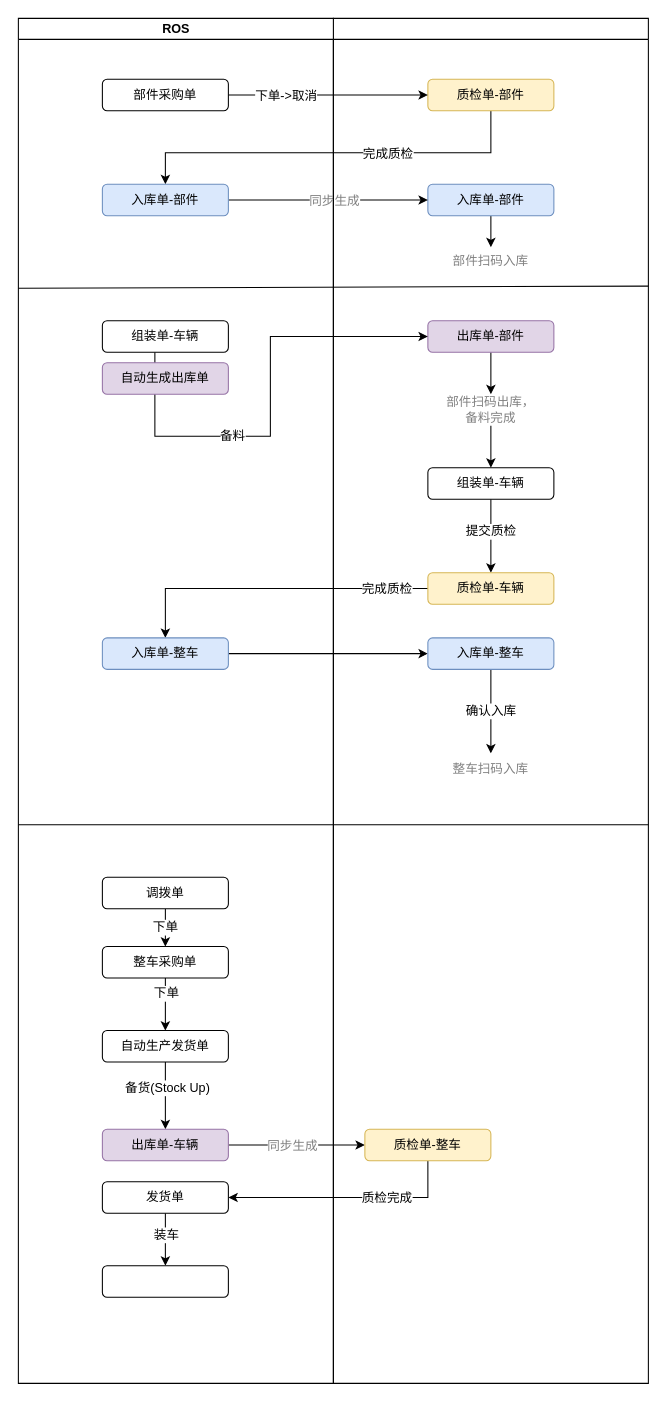
Some shapes in this 668 by 1402 pixel diagram are drawn without their labels. Each missing label, with the centre of its shape:
"RPS" belongs at point 490,700.
"生产委托单" belongs at point 164,1281.
